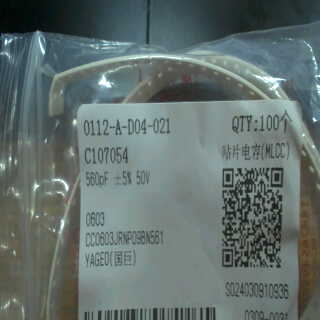560pF: (84, 166, 110, 191)
